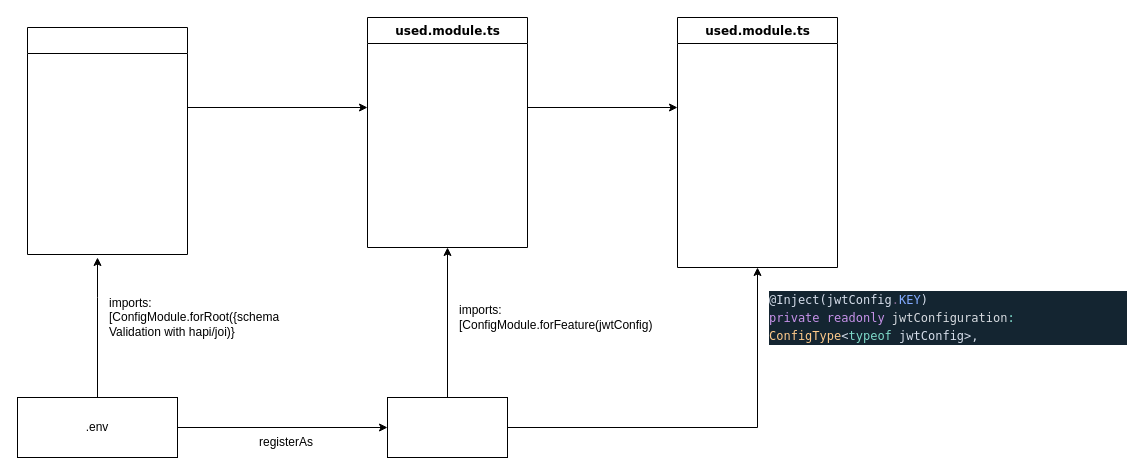
The diagram is 1145 pixels wide and 475 high, and some of its shapes have lost their labels. The shapes that lost their labels are listed below. From the top down, each one's box as (x1, y1, x2, y2) in pixels, then its label:
(26, 26, 188, 254): app.module.ts
(386, 396, 508, 458): jwtConfig
